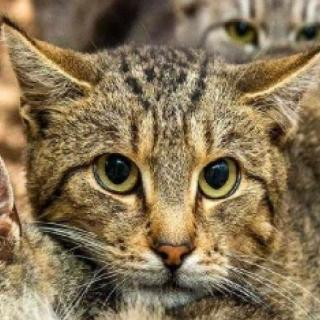cat: (1, 12, 320, 301)
nose: (143, 208, 204, 273)
